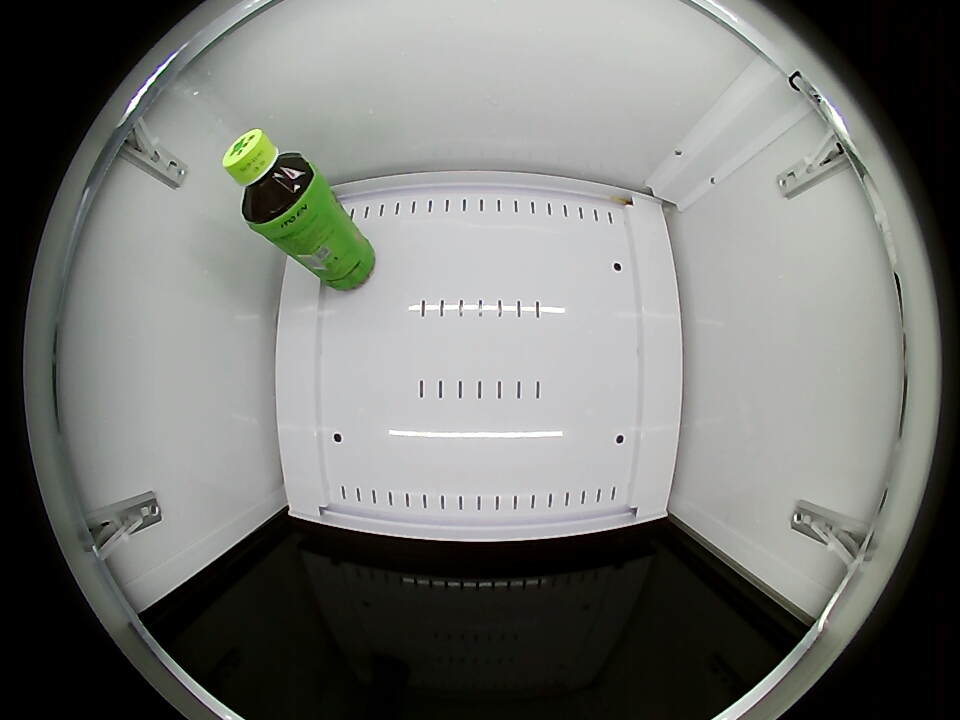yitengyuan: (223, 128, 320, 231)
